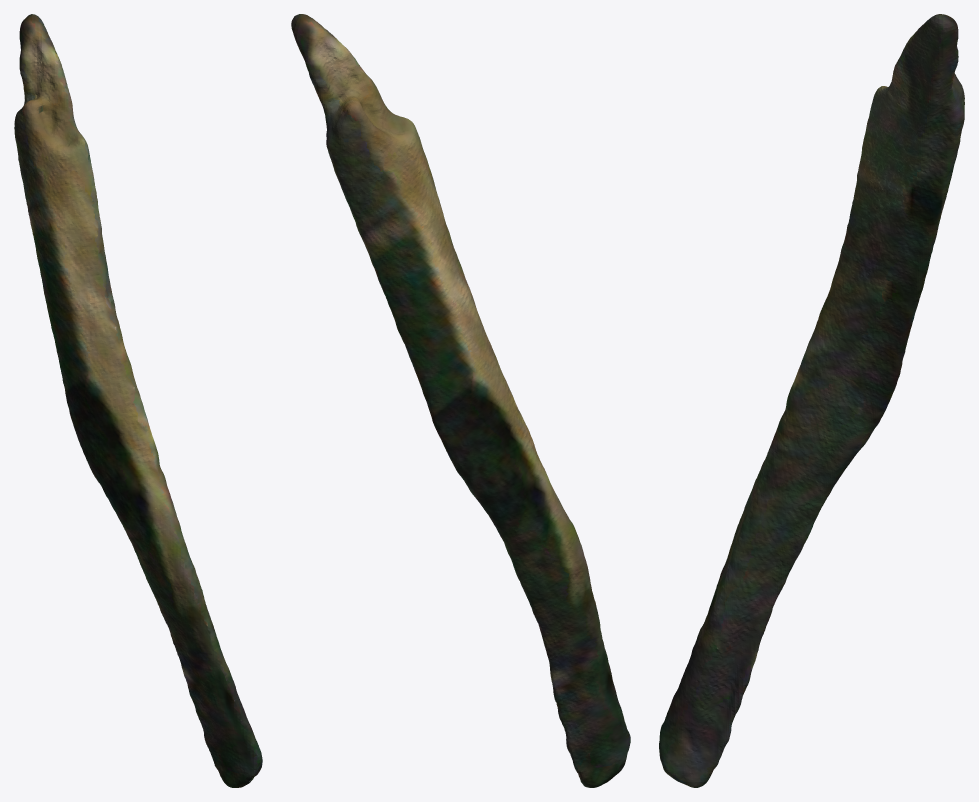
File: 15_ribs.glb
The picture shows the model from 3 angles, left to right: view 1: azimuth 90°, elevation 25°; view 2: azimuth 150°, elevation 25°; view 3: azimuth 270°, elevation 25°; orthographic projection. The views are drawn at different scales.
Parts seen in each view (by area): view 1: Node; view 2: Node; view 3: Node.
Part boxes in pixels (x1=…): Node: x1=14, y1=14, x2=262, y2=787; Node: x1=291, y1=14, x2=630, y2=787; Node: x1=659, y1=14, x2=964, y2=787.
Size of the model in its own units: 10.9 by 41.14 by 13.24.
1 material, 1 textured.
